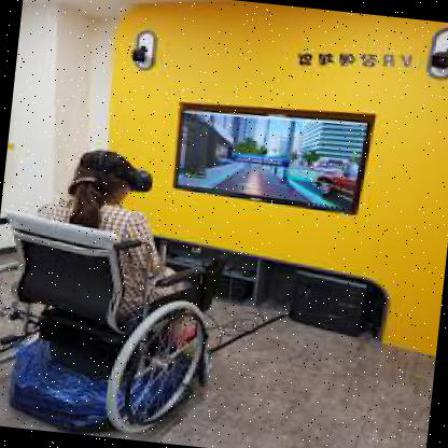wheel: (0, 139, 232, 440)
